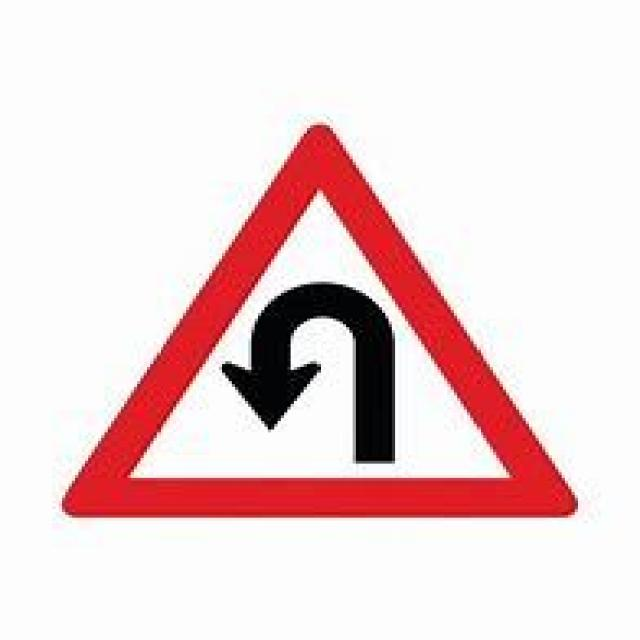LEFT_HAIR_PIN_BEND: (58, 122, 574, 512)
